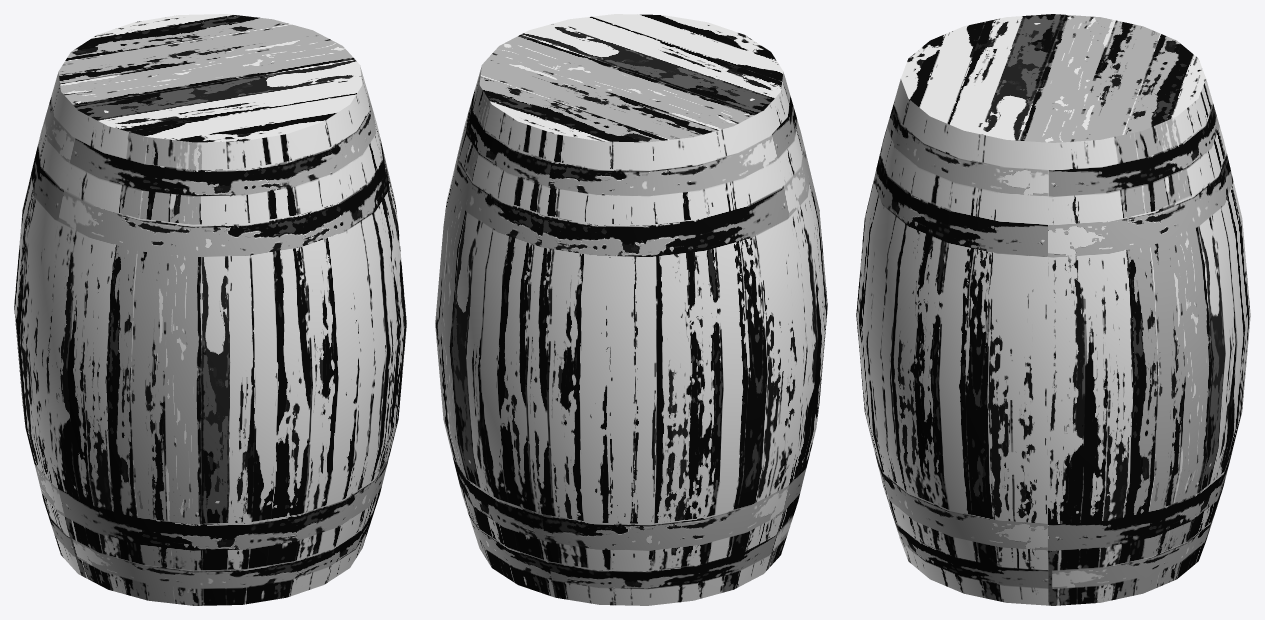
Rendered from Barrel.fbx.
3 views of the same model, side by side, from view 1: azimuth 30°, elevation 25°; view 2: azimuth 150°, elevation 25°; view 3: azimuth 270°, elevation 25° (orthographic).
Visible parts, largest first — view 1: Cylinder.003; view 2: Cylinder.003; view 3: Cylinder.003.
Part boxes in pixels (x1,y1,x2,y2): Cylinder.003: (14, 14, 406, 605); Cylinder.003: (435, 14, 827, 605); Cylinder.003: (856, 14, 1250, 605).
Bounding box in the file's own units: 0.7733 × 1 × 0.7733.
